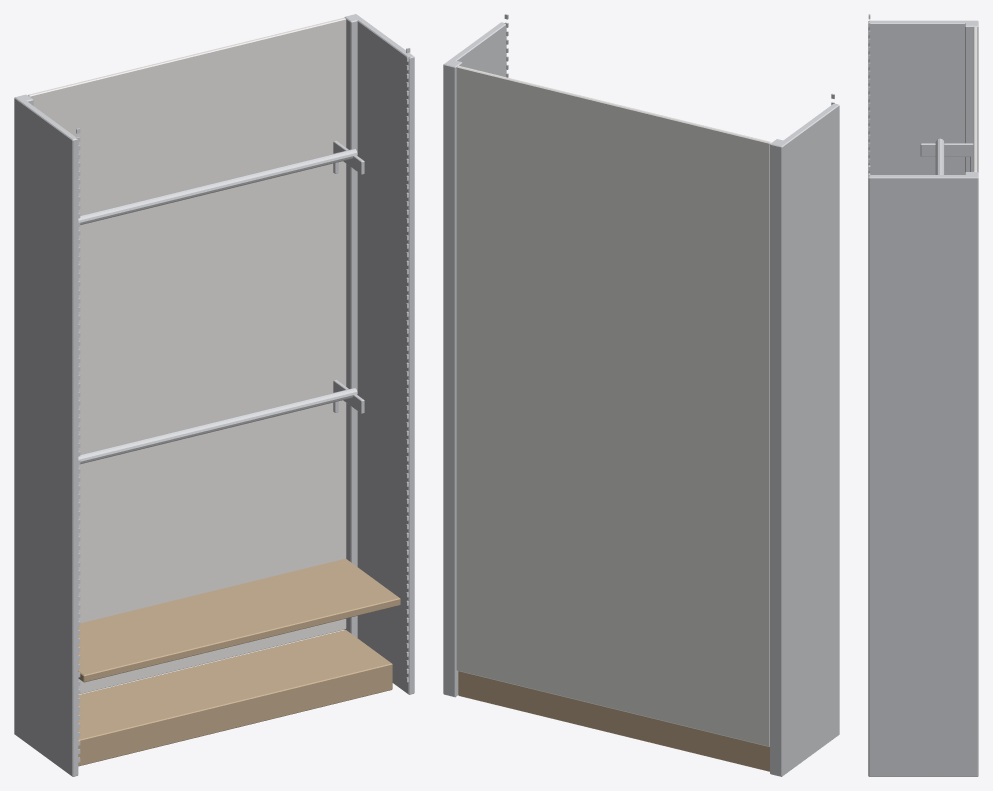
The model's file is SM_Retail_25181_PerimeterWallBayHangingRails.fbx.
3 views of the same model, side by side, from view 1: azimuth 30°, elevation 25°; view 2: azimuth 150°, elevation 25°; view 3: azimuth 270°, elevation 25° (orthographic). The views are drawn at different scales.
Visible parts, largest first — view 1: SM_Retail_25181_PerimeterWallBayHangingRails; view 2: SM_Retail_25181_PerimeterWallBayHangingRails; view 3: SM_Retail_25181_PerimeterWallBayHangingRails.
Boxes of the visible parts, left/top/right/bottom form: SM_Retail_25181_PerimeterWallBayHangingRails: left=14, top=14, right=414, bottom=776; SM_Retail_25181_PerimeterWallBayHangingRails: left=443, top=14, right=839, bottom=776; SM_Retail_25181_PerimeterWallBayHangingRails: left=868, top=14, right=978, bottom=776.
Bounding box in the file's own units: 135 × 39.99 × 243.
